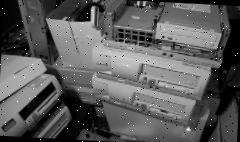electronic: (84, 33, 216, 100)
